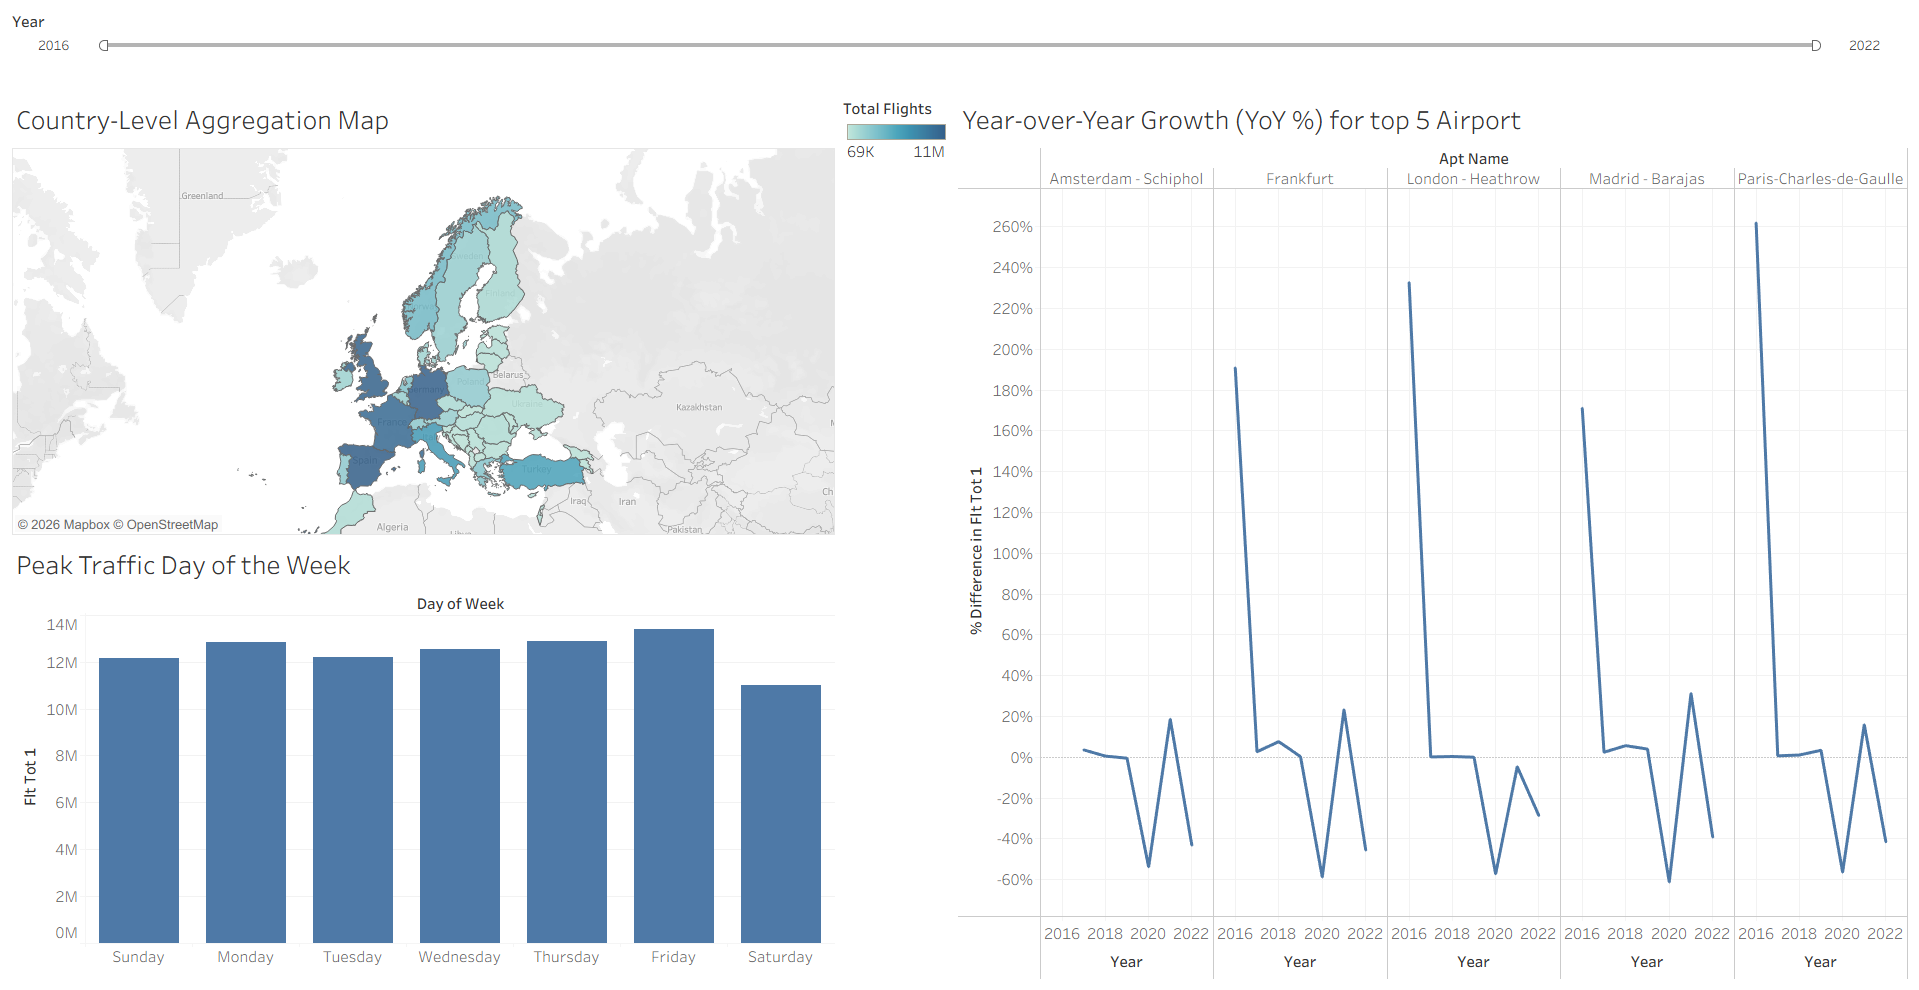

The dashboard page shown, as its layout file describes it:
{"tool":"tableau","page":{"name":"European IFR movements 2","canvas":[1000,1000],"units":"permille","ordinal":1},"visuals":[{"type":"filter","title":"Country-Level Aggregation Map","param":"[federated.0al27mt1p6d7nz19milpa05riklj].[none:YEAR:qk]","box":[4.8,9.3,990.3,87.1]},{"type":"worksheet","title":"Country-Level Aggregation Map","mark":"Multipolygon","box":[4.8,96.4,342.8,447.2]},{"type":"legend","title":"Country-Level Aggregation Map","param":"[federated.0al27mt1p6d7nz19milpa05riklj].[sum:FLT_TOT_1:qk]","box":[347.6,96.4,69.4,894.3]},{"type":"worksheet","title":"Year-over-Year Growth (YoY %) for top 5 Airport","mark":"Automatic","rows":["APT_NAME","YEAR"],"cols":["FLT_TOT_1"],"box":[417,96.4,578.2,894.3]},{"type":"worksheet","title":"Peak Traffic Day of the Week","mark":"Automatic","rows":["FLT_TOT_1"],"cols":["Calculation_1508987364294553602"],"box":[4.8,543.5,342.8,447.2]}]}

Visuals, with their boxes on the dashboard's canvas, which has no fixed pixel size, in thousandths of its width and height (x1, y1, x2, y2). These are canvas units, not pixel positions in the 1919x990 screenshot, which may show the page scaled, cropped or inside an application window:
"Country-Level Aggregation Map" filter: [5, 9, 995, 96]
"Country-Level Aggregation Map" worksheet (Multipolygon marks): [5, 96, 348, 544]
"Country-Level Aggregation Map" legend: [348, 96, 417, 991]
"Year-over-Year Growth (YoY %) for top 5 Airport" worksheet: [417, 96, 995, 991]
"Peak Traffic Day of the Week" worksheet: [5, 544, 348, 991]
